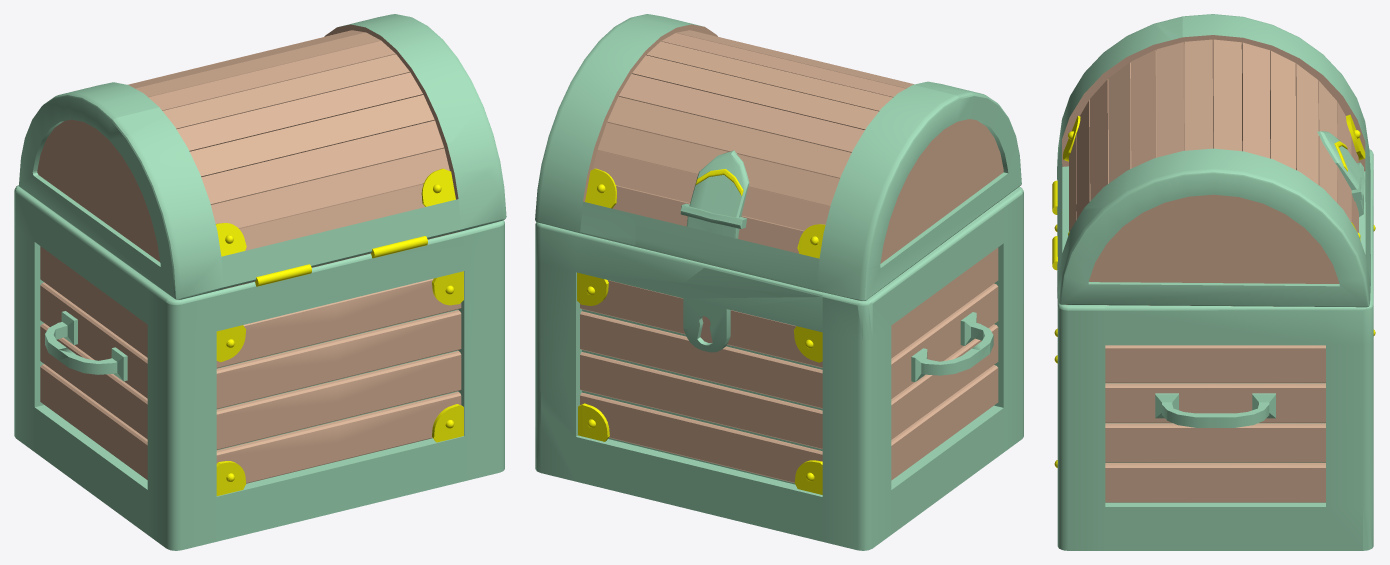
3 renders of one model, left to right at view 1: azimuth 30°, elevation 25°; view 2: azimuth 150°, elevation 25°; view 3: azimuth 270°, elevation 25°, orthographic. The views are drawn at different scales.
Parts seen in each view (by area): view 1: Chest_Bottom.003, Chest_Up.004, Chest_Up.002, Chest_Bottom.002, Chest_Up.001, Chest_Bottom.004, Chest_Up.005, Chest_Bottom.007, Chest_Bottom.006, Chest_Up.003, Chest_Bottom.005; view 2: Chest_Up.001, Chest_Bottom.002, Chest_Bottom.001, Chest_Up.002, Chest_Bottom.003, Chest_Up.005, Chest_Bottom.005, Chest_Bottom.007, Chest_Up, Chest_Up.004, Chest_Up.003, Chest_Bottom.009; view 3: Chest_Bottom.001, Chest_Up.002, Chest_Up.001, Chest_Up.005, Chest_Up.004, Chest_Bottom.004, Chest_Up.003, Chest_Bottom.007, Chest_Bottom.006.
Boxes of the visible parts, x1,y1,x2,y2 form: Chest_Bottom.003: (16,193,464,550); Chest_Up.004: (80,32,459,289); Chest_Up.002: (19,14,506,299); Chest_Bottom.002: (14,191,147,534); Chest_Up.001: (19,30,395,297); Chest_Bottom.004: (335,223,504,481); Chest_Up.005: (189,24,458,199); Chest_Bottom.007: (14,185,504,435); Chest_Bottom.006: (216,236,463,495); Chest_Up.003: (215,168,455,256); Chest_Bottom.005: (15,185,174,302); Chest_Up.001: (580,33,1021,300); Chest_Bottom.002: (577,247,1003,550); Chest_Bottom.001: (535,222,822,496); Chest_Up.002: (535,14,1021,300); Chest_Bottom.003: (794,192,1023,474); Chest_Up.005: (583,24,801,230); Chest_Bottom.005: (589,188,1022,407); Chest_Bottom.007: (536,186,1023,436); Chest_Up: (592,150,656,215); Chest_Up.004: (598,34,960,206); Chest_Up.003: (585,168,825,251); Chest_Bottom.009: (580,280,712,357); Chest_Bottom.001: (1105,170,1374,550); Chest_Up.002: (1057,16,1370,307); Chest_Up.001: (1182,14,1370,256); Chest_Up.005: (1066,104,1357,306); Chest_Up.004: (1062,35,1365,231); Chest_Bottom.004: (1055,293,1373,550); Chest_Up.003: (1063,115,1364,240); Chest_Bottom.007: (1057,149,1373,310); Chest_Bottom.006: (1052,180,1375,467).
Bounding box in the file's own units: 77.36 × 71.62 × 55.23.
